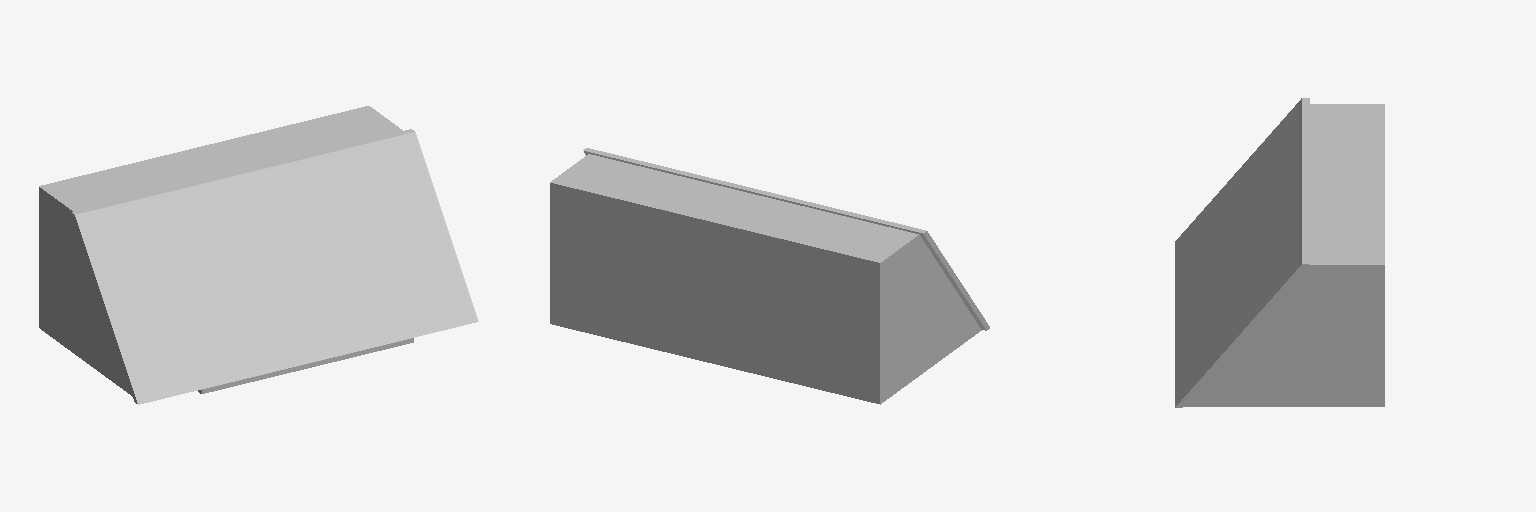
Rendered from yellow_scoreboard.obj.
3 views of the same model, side by side, from view 1: azimuth 30°, elevation 25°; view 2: azimuth 150°, elevation 25°; view 3: azimuth 270°, elevation 25° (orthographic).
Visible parts, largest first — view 1: Object.1; view 2: Object.1; view 3: Object.1.
Boxes of the visible parts, x1=… form: Object.1: x1=39, y1=106, x2=478, y2=404; Object.1: x1=550, y1=148, x2=989, y2=404; Object.1: x1=1175, y1=98, x2=1384, y2=407.
Bounding box in the file's own units: 54.65 × 22.93 × 29.22.